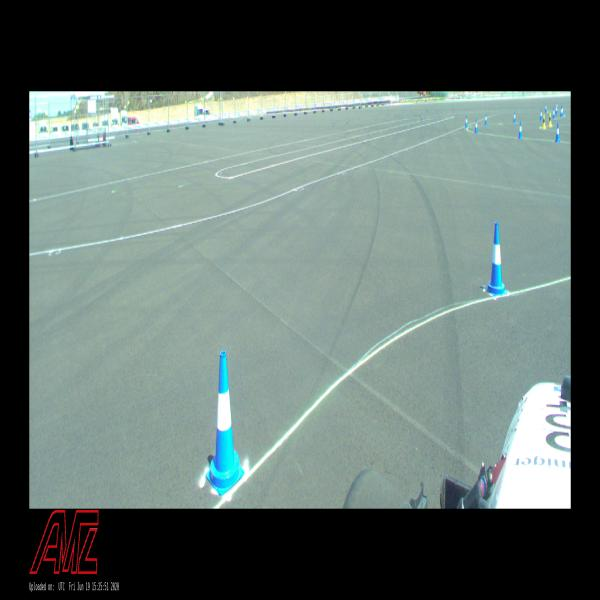blue_cone: (206, 351, 244, 496), (485, 222, 508, 297), (555, 123, 561, 142), (518, 121, 522, 139), (474, 119, 478, 133), (465, 116, 468, 128), (485, 114, 488, 125), (513, 112, 516, 123), (560, 106, 563, 117), (540, 109, 542, 121), (553, 108, 555, 118), (562, 106, 564, 116), (556, 105, 558, 114), (545, 104, 547, 113)
yellow_cone: (542, 114, 546, 129), (548, 113, 552, 126)
